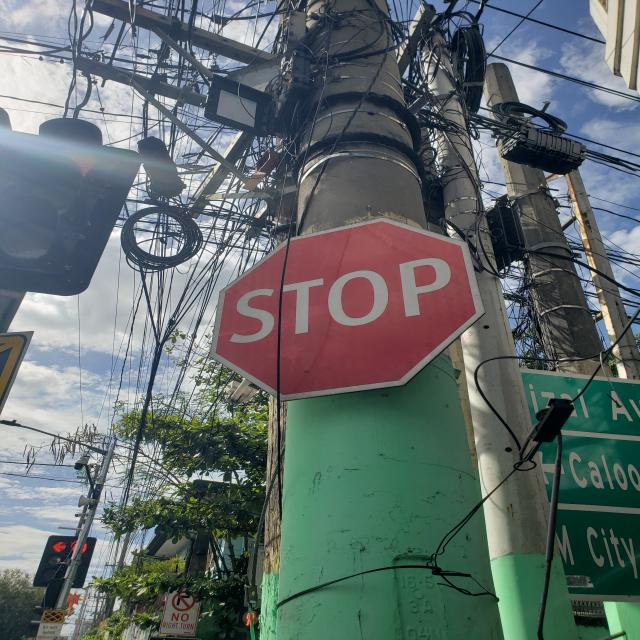stop-sign: (208, 217, 487, 402)
